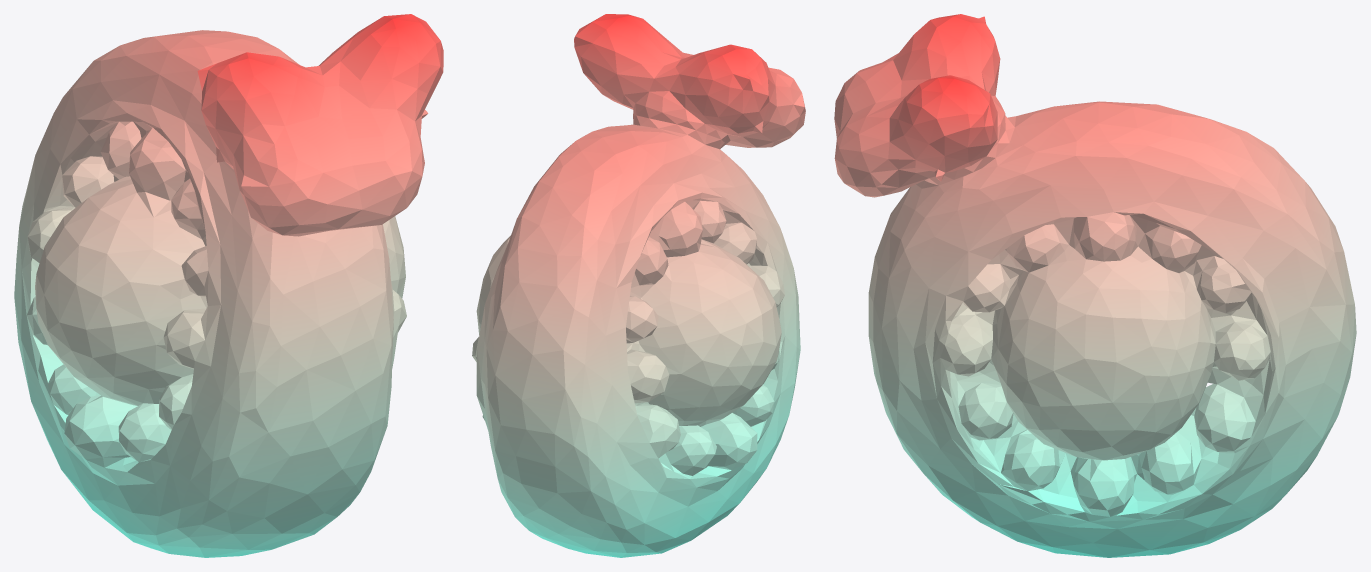
The model's file is 56_cyb_laser_gradient_fish_scales_2861_2026_10_03_186fb8.glb.
The picture shows the model from 3 angles, left to right: view 1: azimuth 30°, elevation 25°; view 2: azimuth 150°, elevation 25°; view 3: azimuth 270°, elevation 25°; orthographic projection. The views are drawn at different scales.
Visible parts, largest first — view 1: geometry_0; view 2: geometry_0; view 3: geometry_0.
Boxes of the visible parts, x1=… form: geometry_0: x1=14, y1=14, x2=443, y2=557; geometry_0: x1=472, y1=14, x2=805, y2=557; geometry_0: x1=834, y1=14, x2=1356, y2=557.
Bounding box in the file's own units: 0.585 × 0.919 × 0.8495.
